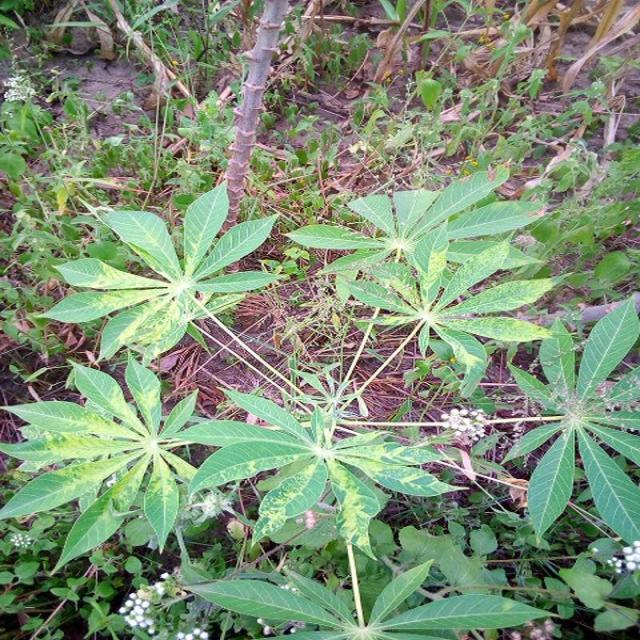cassava leaf: (284, 162, 561, 403), (177, 379, 459, 560), (36, 177, 282, 364), (500, 292, 638, 546)
